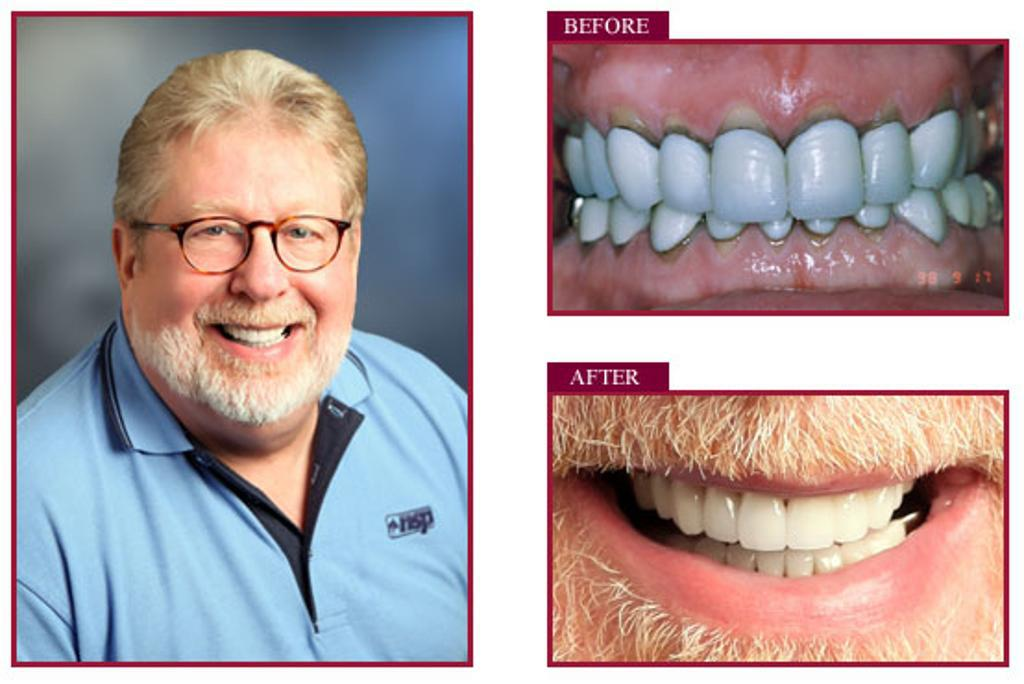face: (149, 153, 359, 427)
